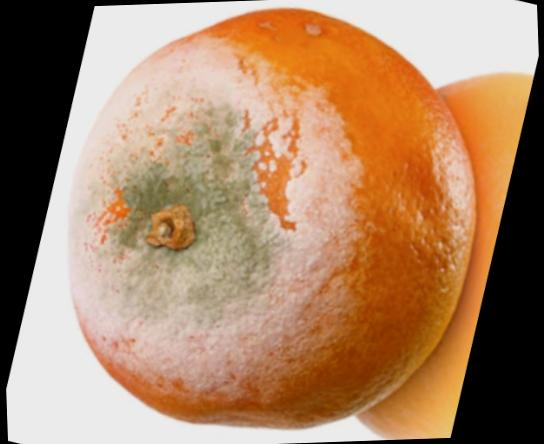Orange Rotten: (56, 0, 499, 444)
